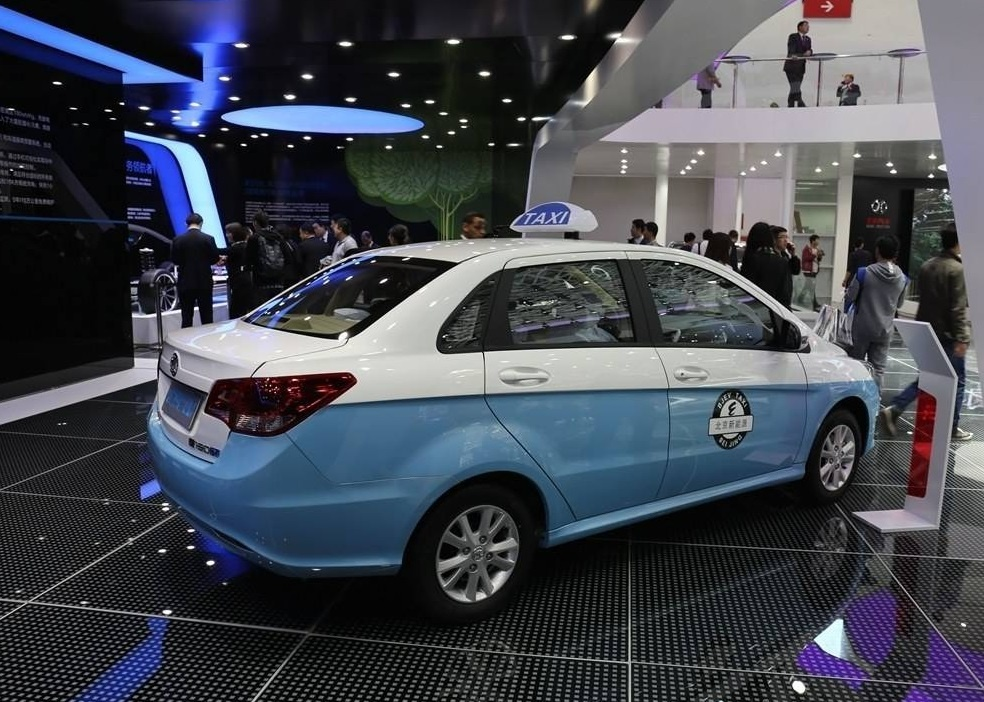taxi: (127, 189, 914, 644)
